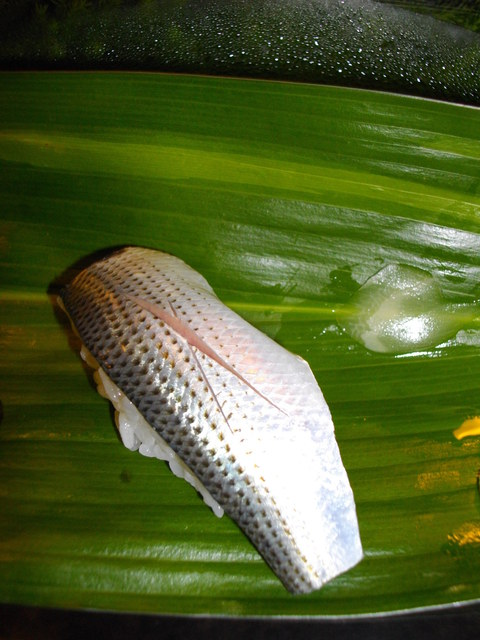spotted-shad: (50, 240, 369, 601)
